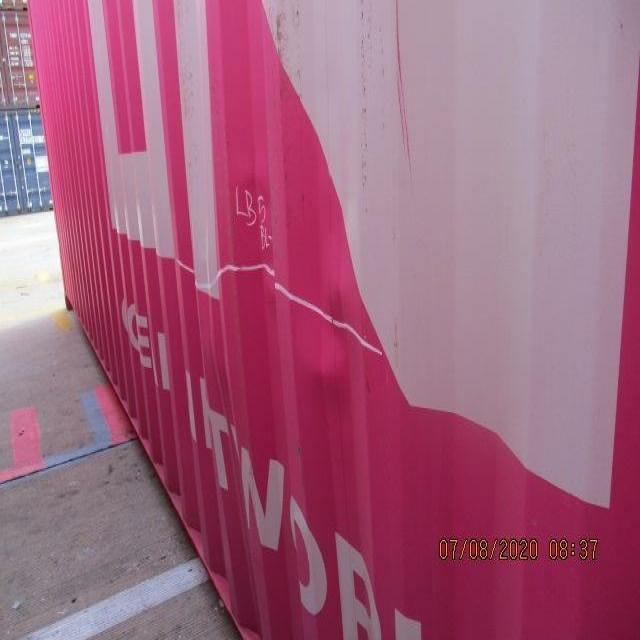Dent: (169, 152, 372, 488)
